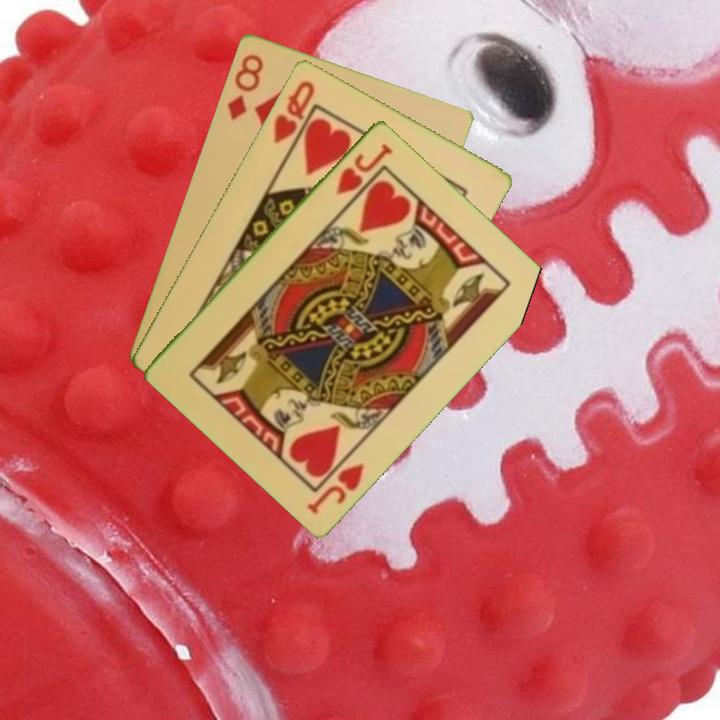8d: (223, 50, 267, 123)
Jh: (332, 139, 396, 198), (303, 459, 367, 517)
Qh: (269, 76, 318, 146)
